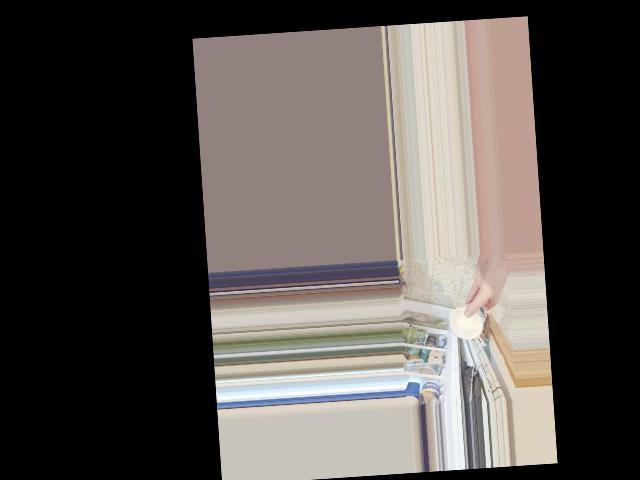cotage: (448, 301, 491, 343)
